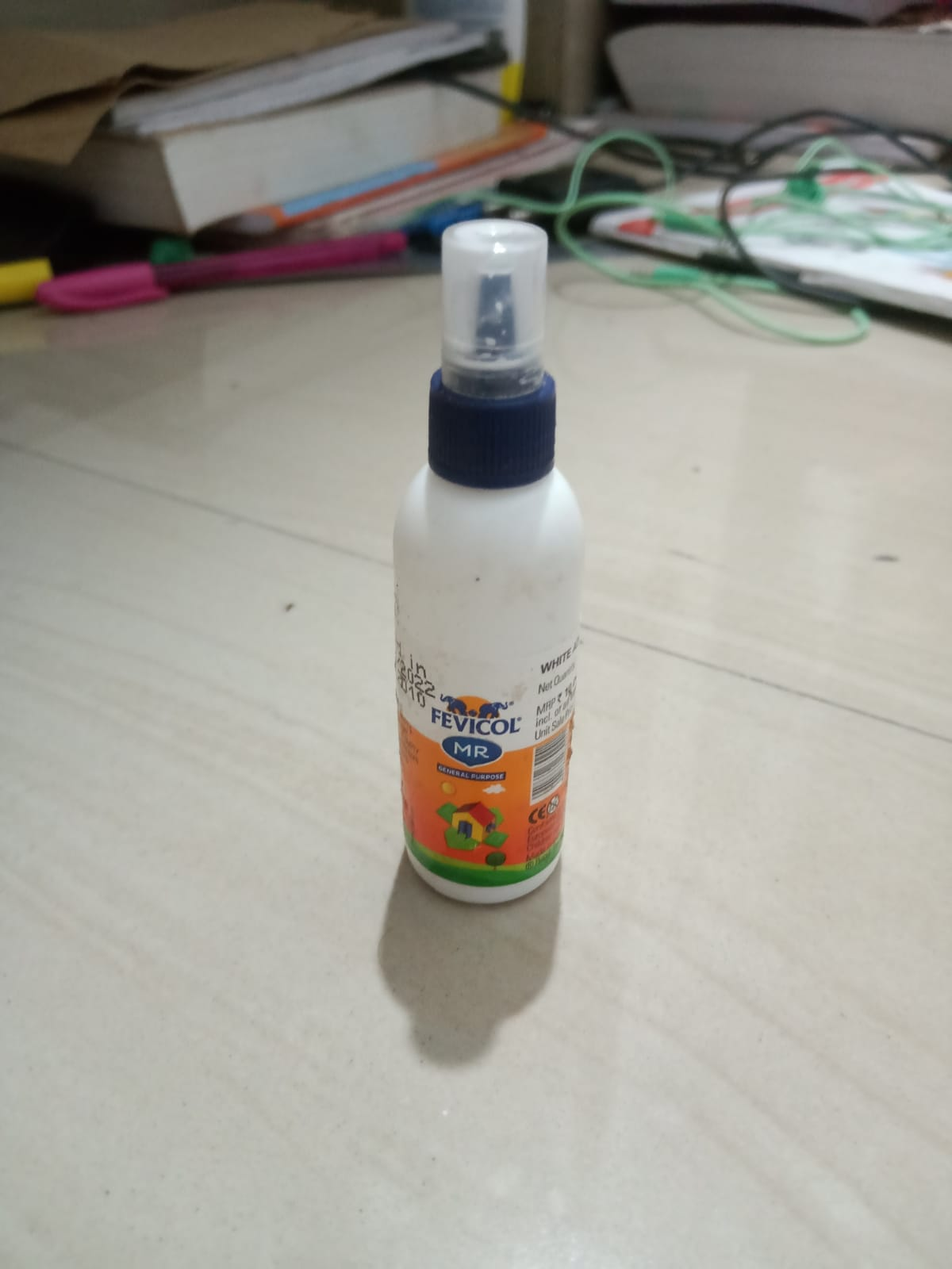plastic: (315, 180, 655, 927)
